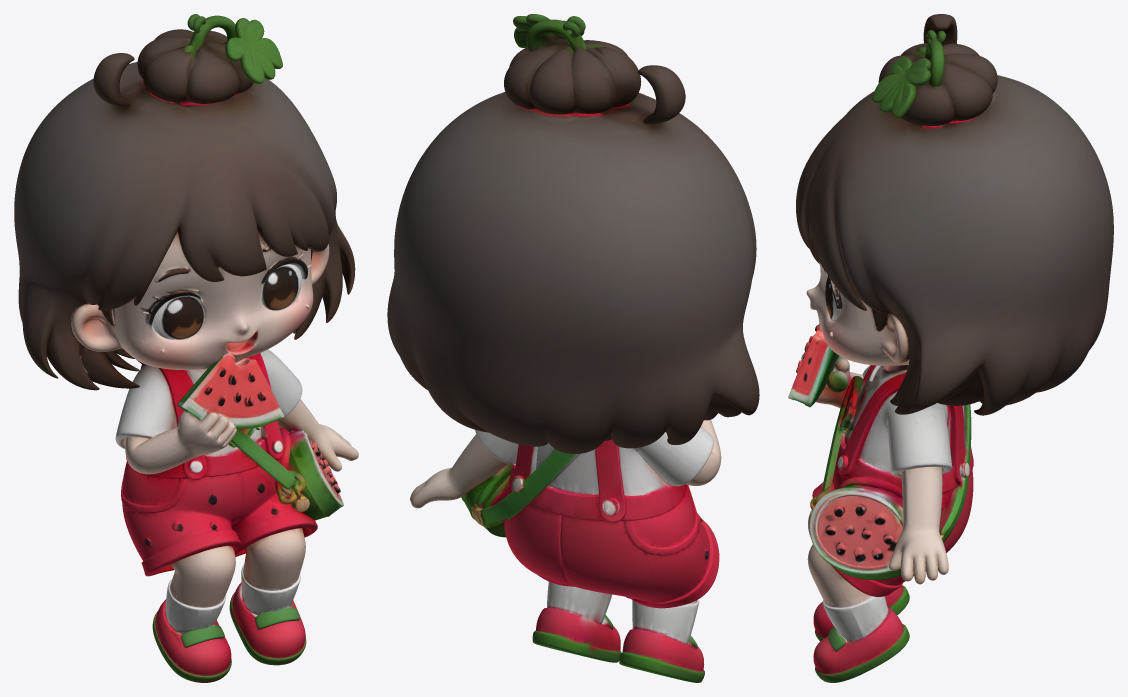
The model's file is duomei.glb.
3 renders of one model, left to right at view 1: azimuth 30°, elevation 25°; view 2: azimuth 150°, elevation 25°; view 3: azimuth 270°, elevation 25°, orthographic. The views are drawn at different scales.
Visible parts, largest first — view 1: node_0; view 2: node_0; view 3: node_0.
Boxes of the visible parts, x1,y1,x2,y2 form: node_0: [14, 14, 358, 682]; node_0: [387, 14, 759, 682]; node_0: [788, 14, 1113, 682].
Size of the model in its own units: 0.5999 by 1.11 by 0.5227.
Materials: 1 (1 with a texture image).
